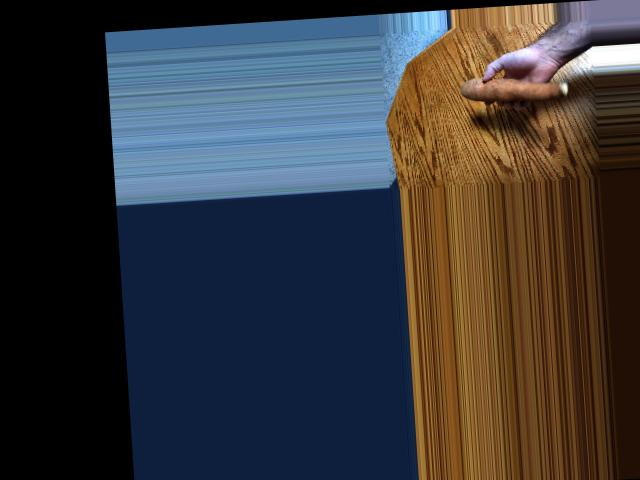sweet_potato: (460, 78, 560, 112)
